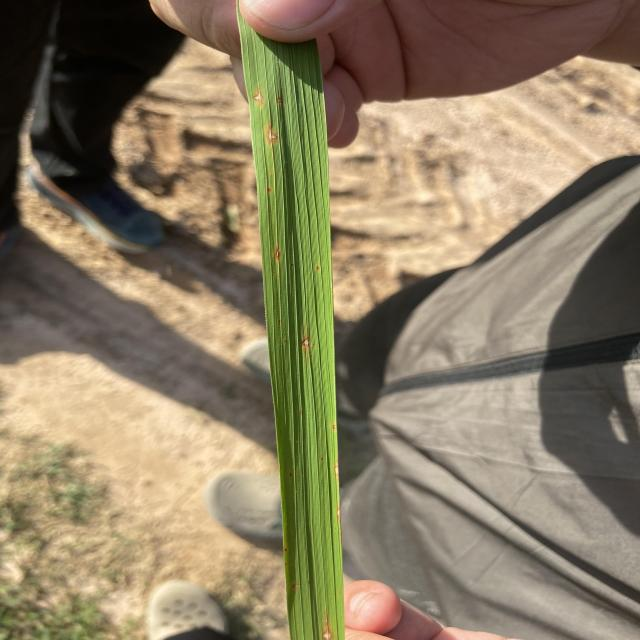Dao on: (266, 124, 278, 145), (253, 87, 263, 107), (323, 626, 332, 640), (302, 337, 309, 349), (275, 250, 280, 257), (332, 423, 336, 430)
